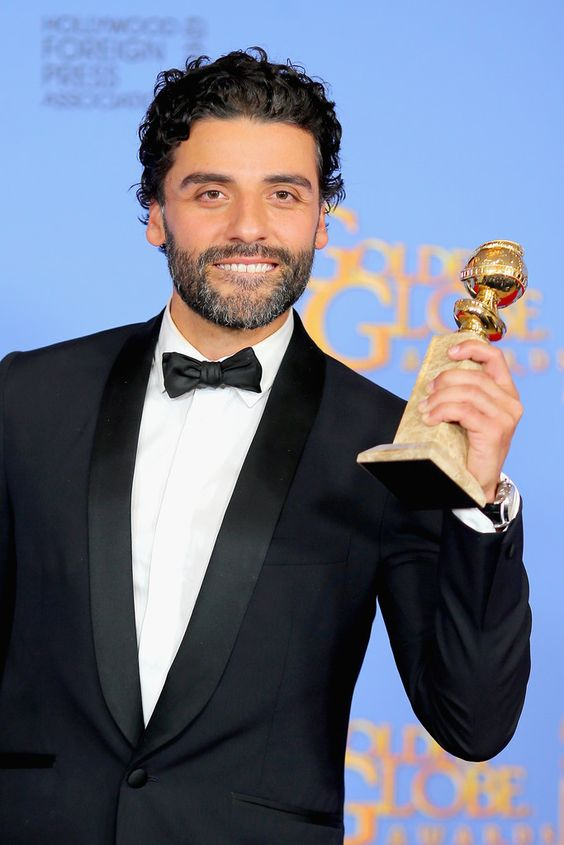hand: (422, 349, 515, 500)
